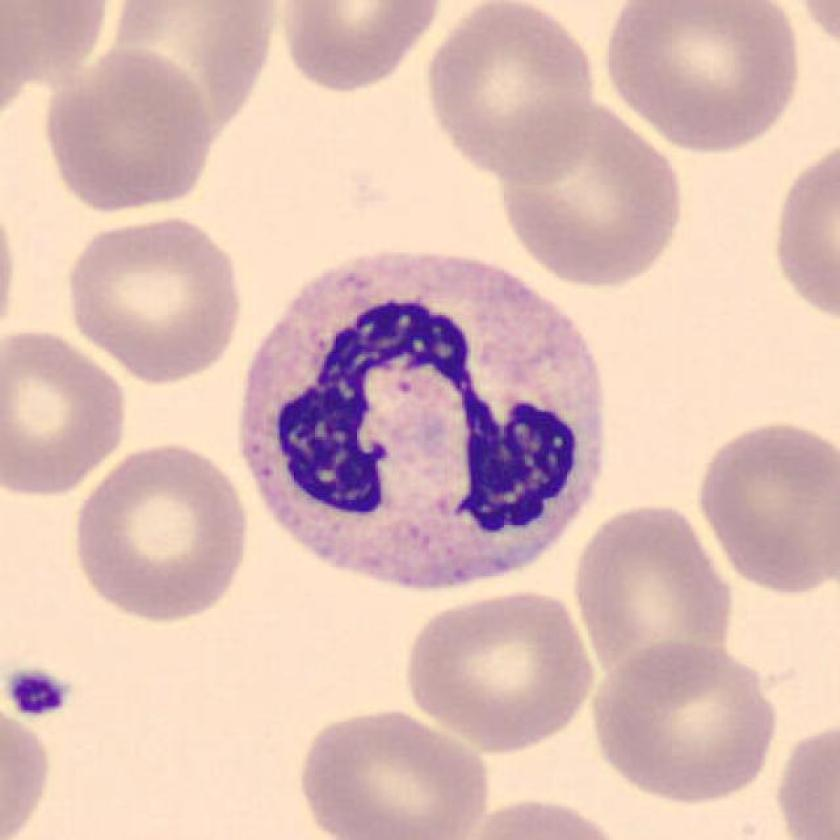neutrophil: (243, 252, 608, 581)
